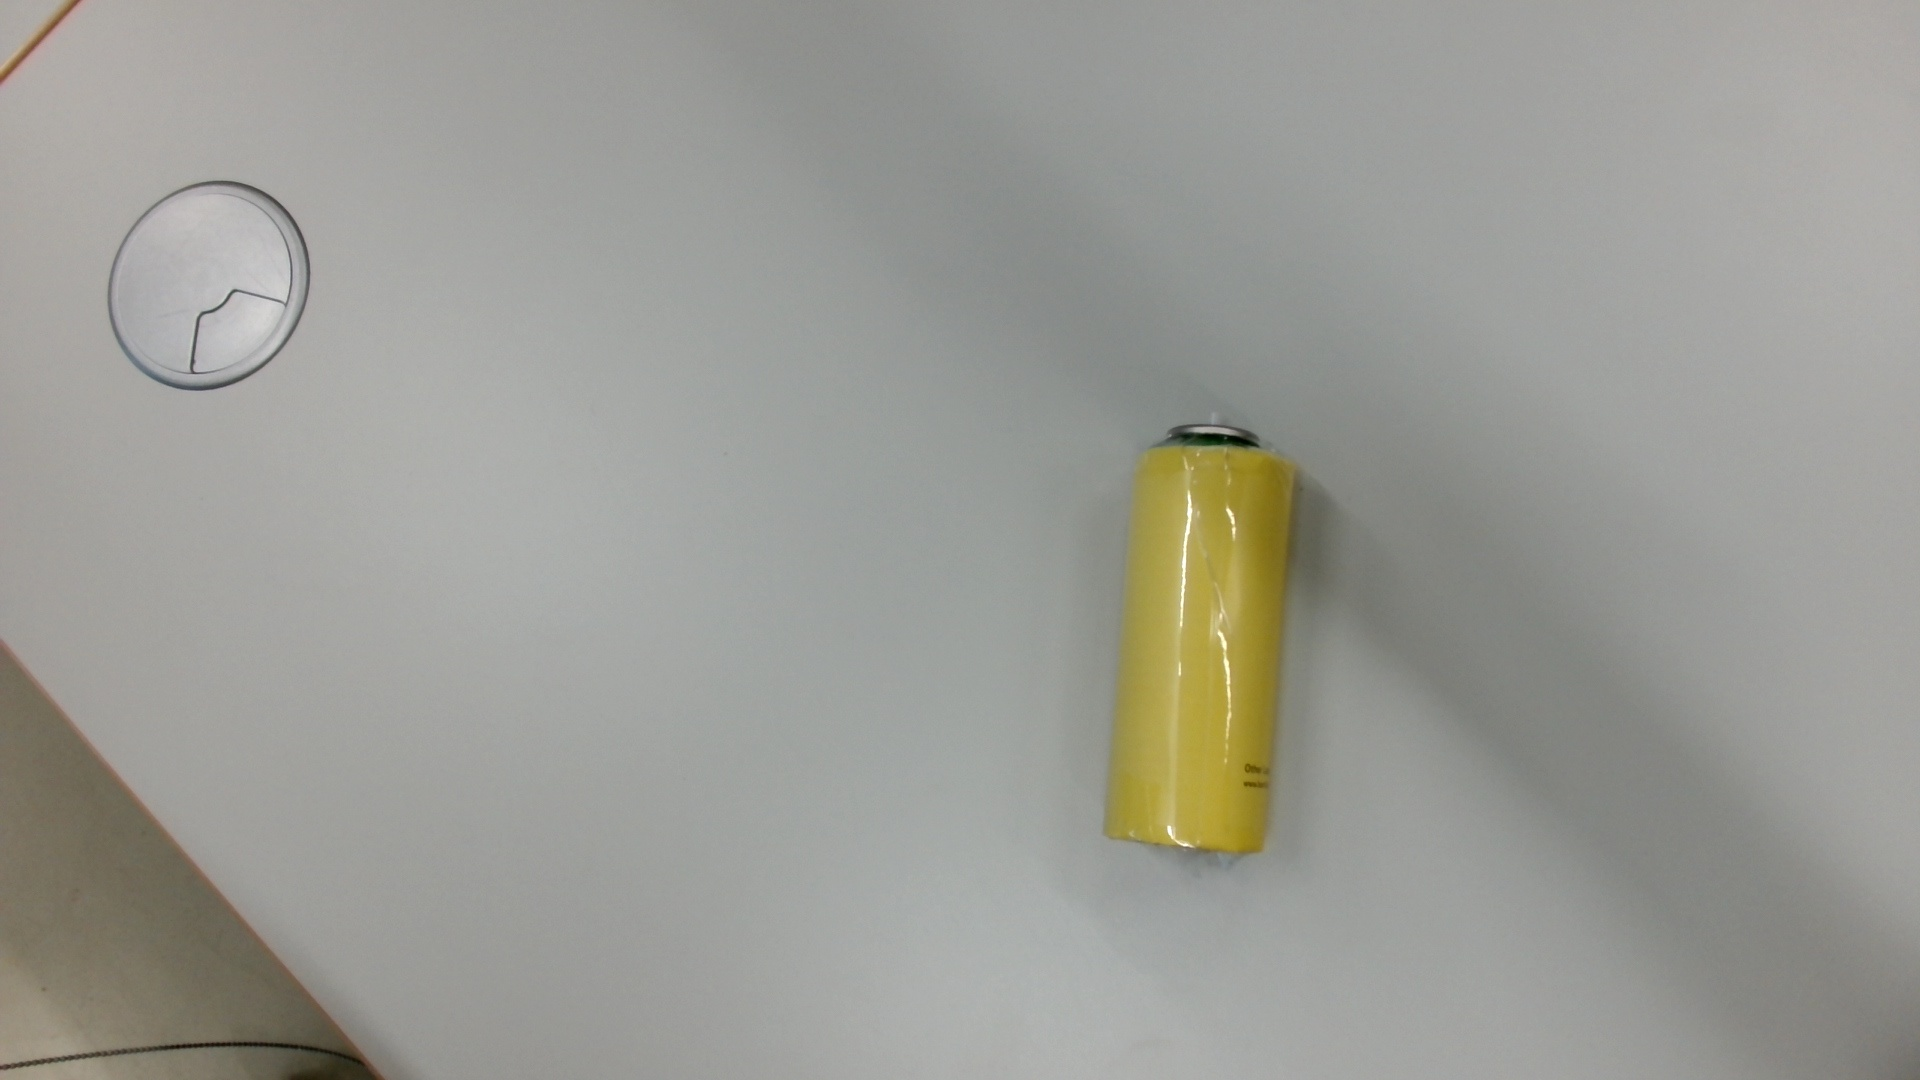Cylinder: (1096, 405, 1309, 876)
